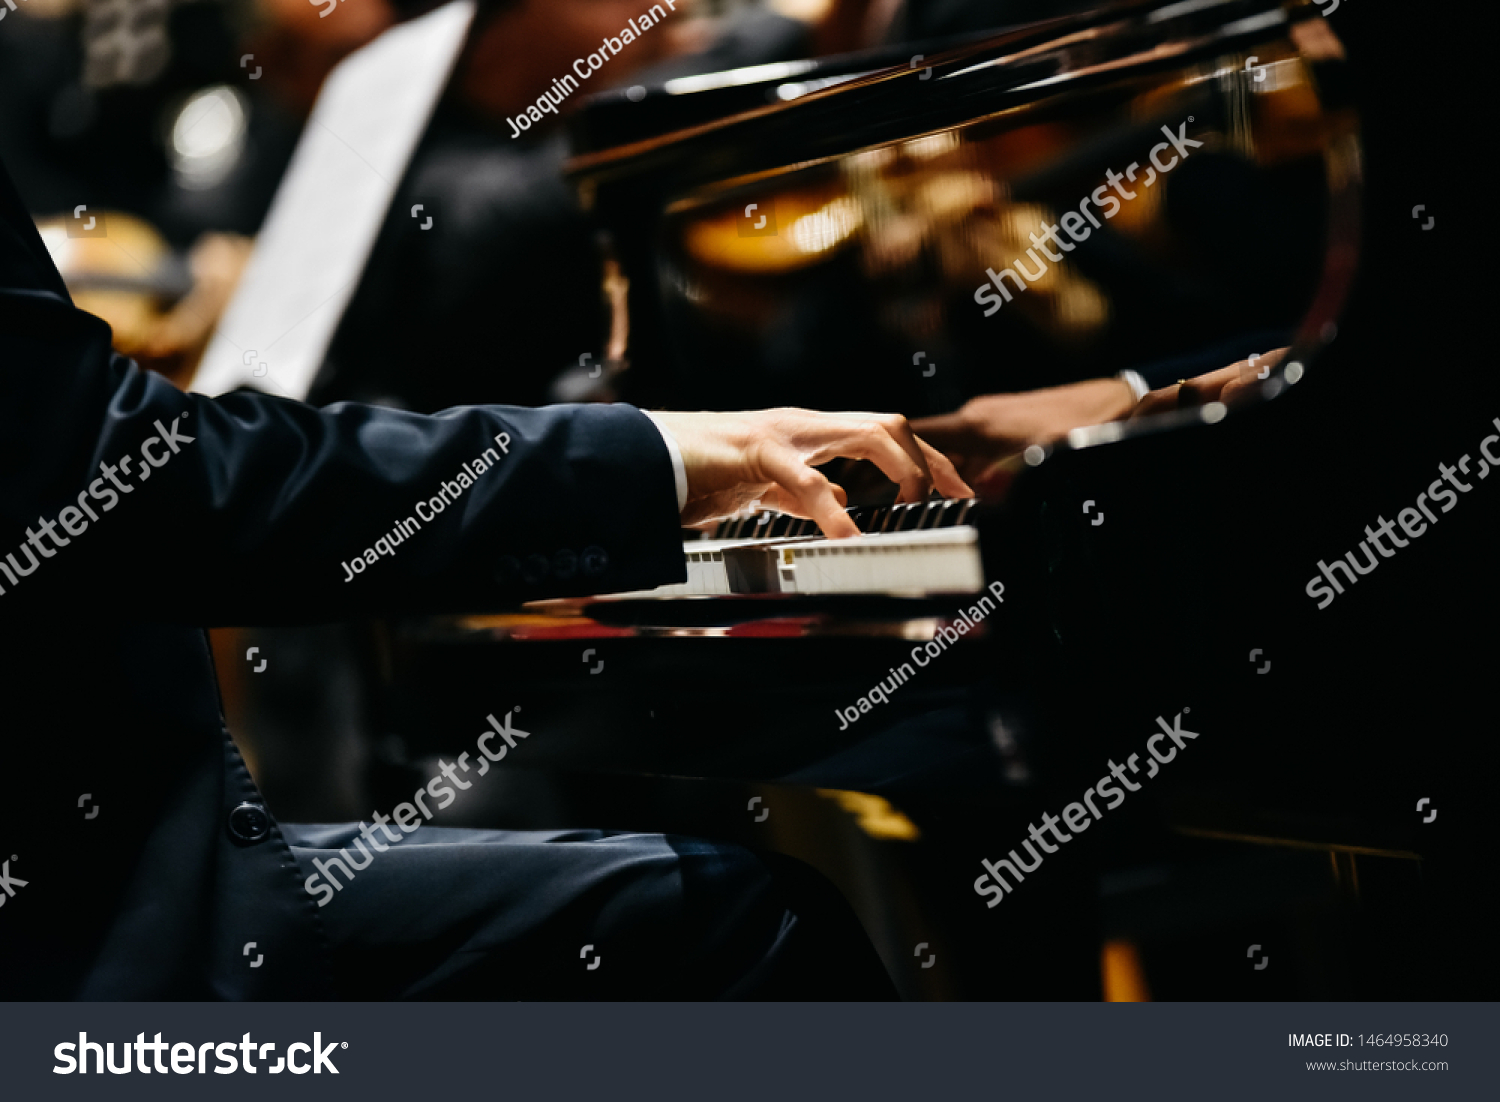Piano: (327, 71, 1500, 801)
